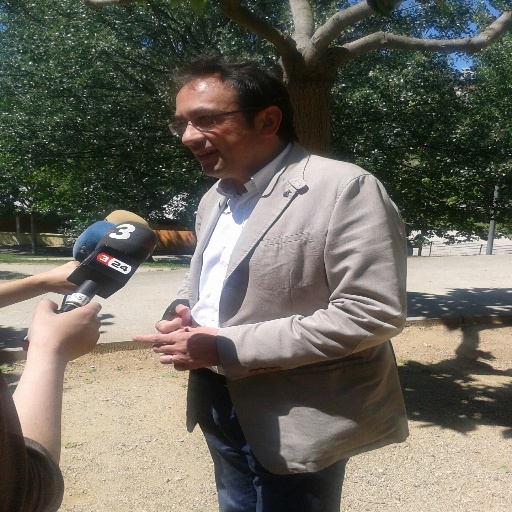hand: (134, 309, 229, 378), (25, 296, 102, 365), (35, 261, 77, 296), (151, 301, 193, 334)
